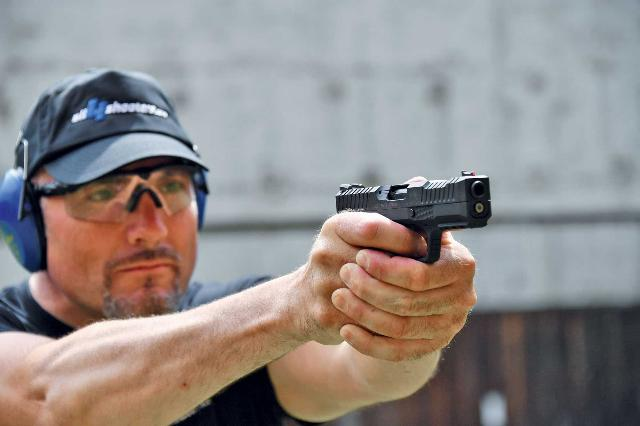handgun: (332, 168, 494, 267)
